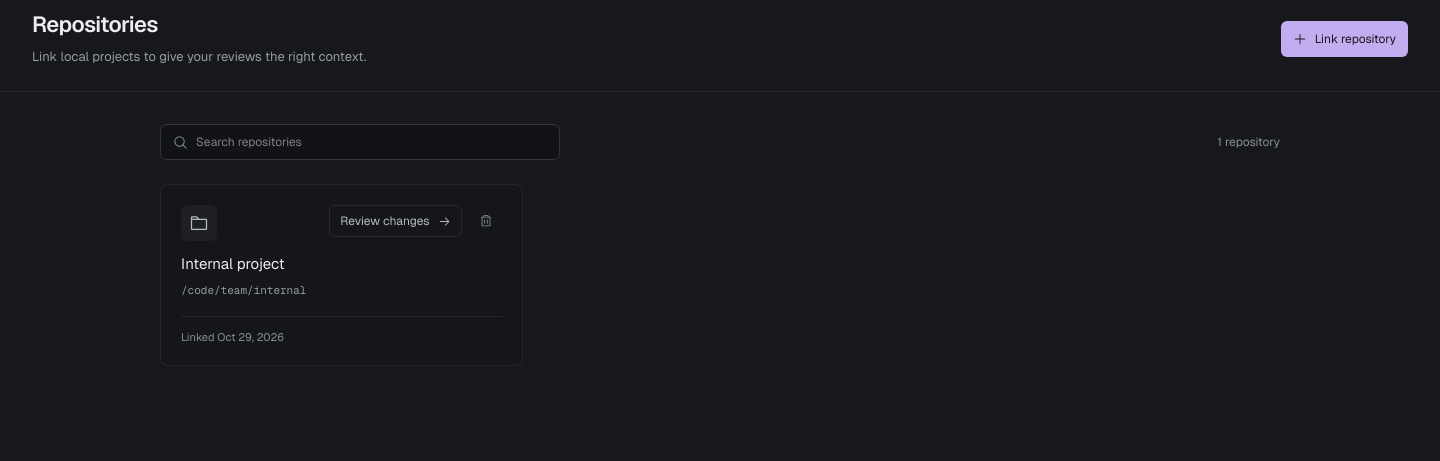
Test case: Repositories › searches names and paths with trimmed text and clears without losing input focus
Step 1. Type " TEAM/ " into the search field labelled "Search repositories" → (372, 142), box [196, 125, 547, 159]
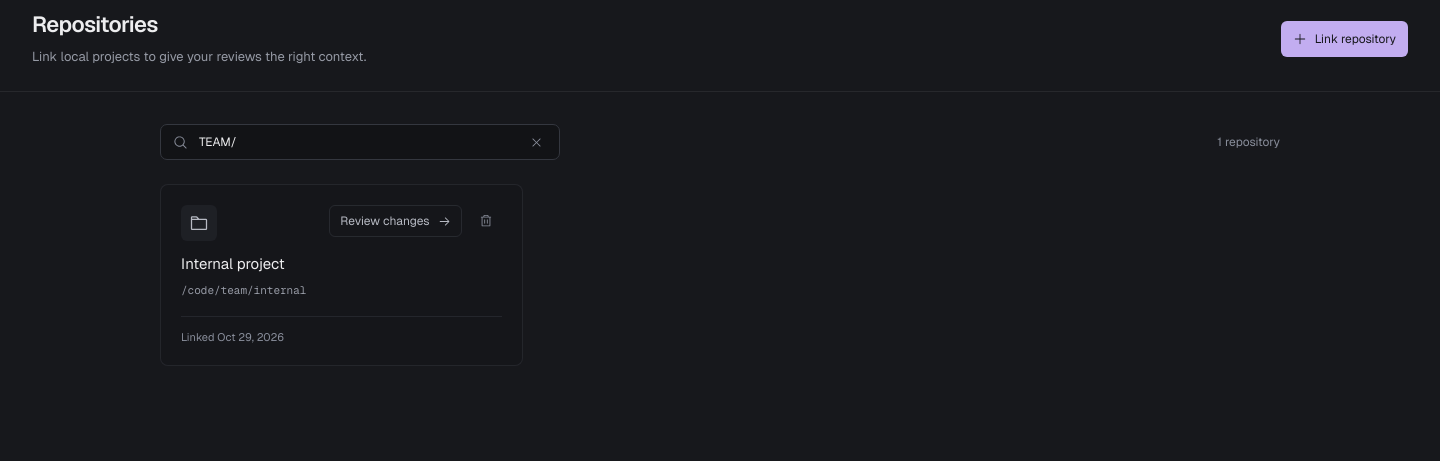
Expected: the heading "Internal project" is shown, [181, 254, 285, 273]
Step 2. Replace the text in the search field named "Search repositories" with "missing" → (357, 142), box [196, 125, 518, 159]
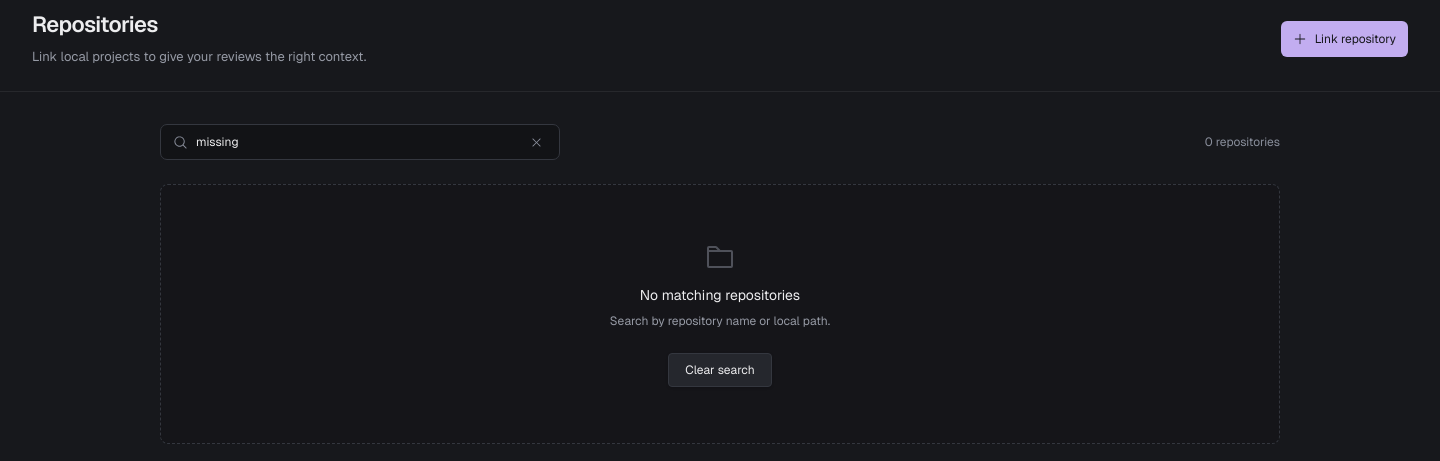
Expected: the text "No matching repositories" is shown, [640, 285, 800, 305]
Step 3. Press Escape in the search field named "Search repositories", box [196, 125, 518, 159]
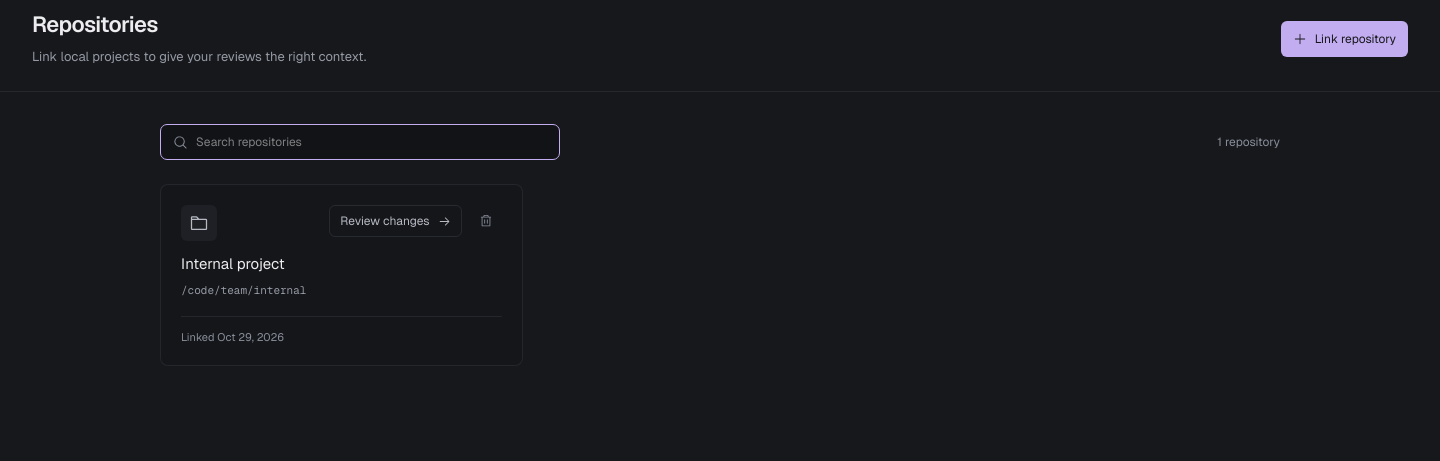
Expected: the search field labelled "Search repositories" is empty, [196, 125, 547, 159]
Expected: the heading "Internal project" is shown, [181, 254, 285, 273]
